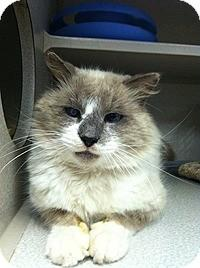siamese: (24, 42, 168, 181)
